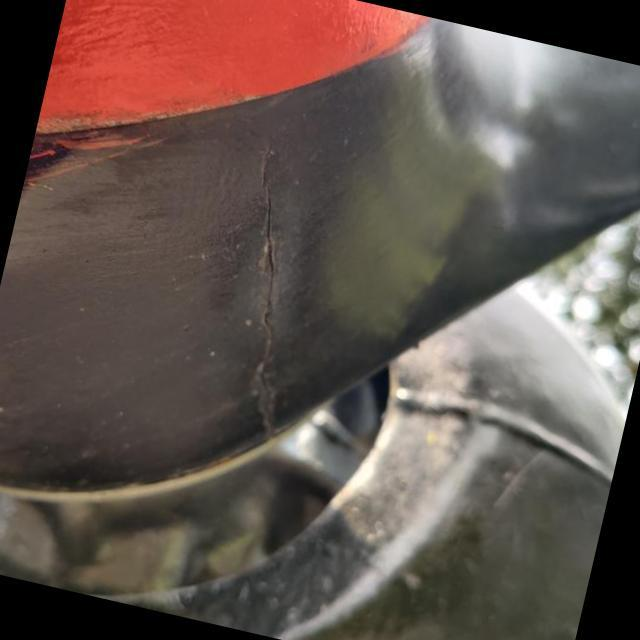Rupture: (136, 112, 388, 468)
